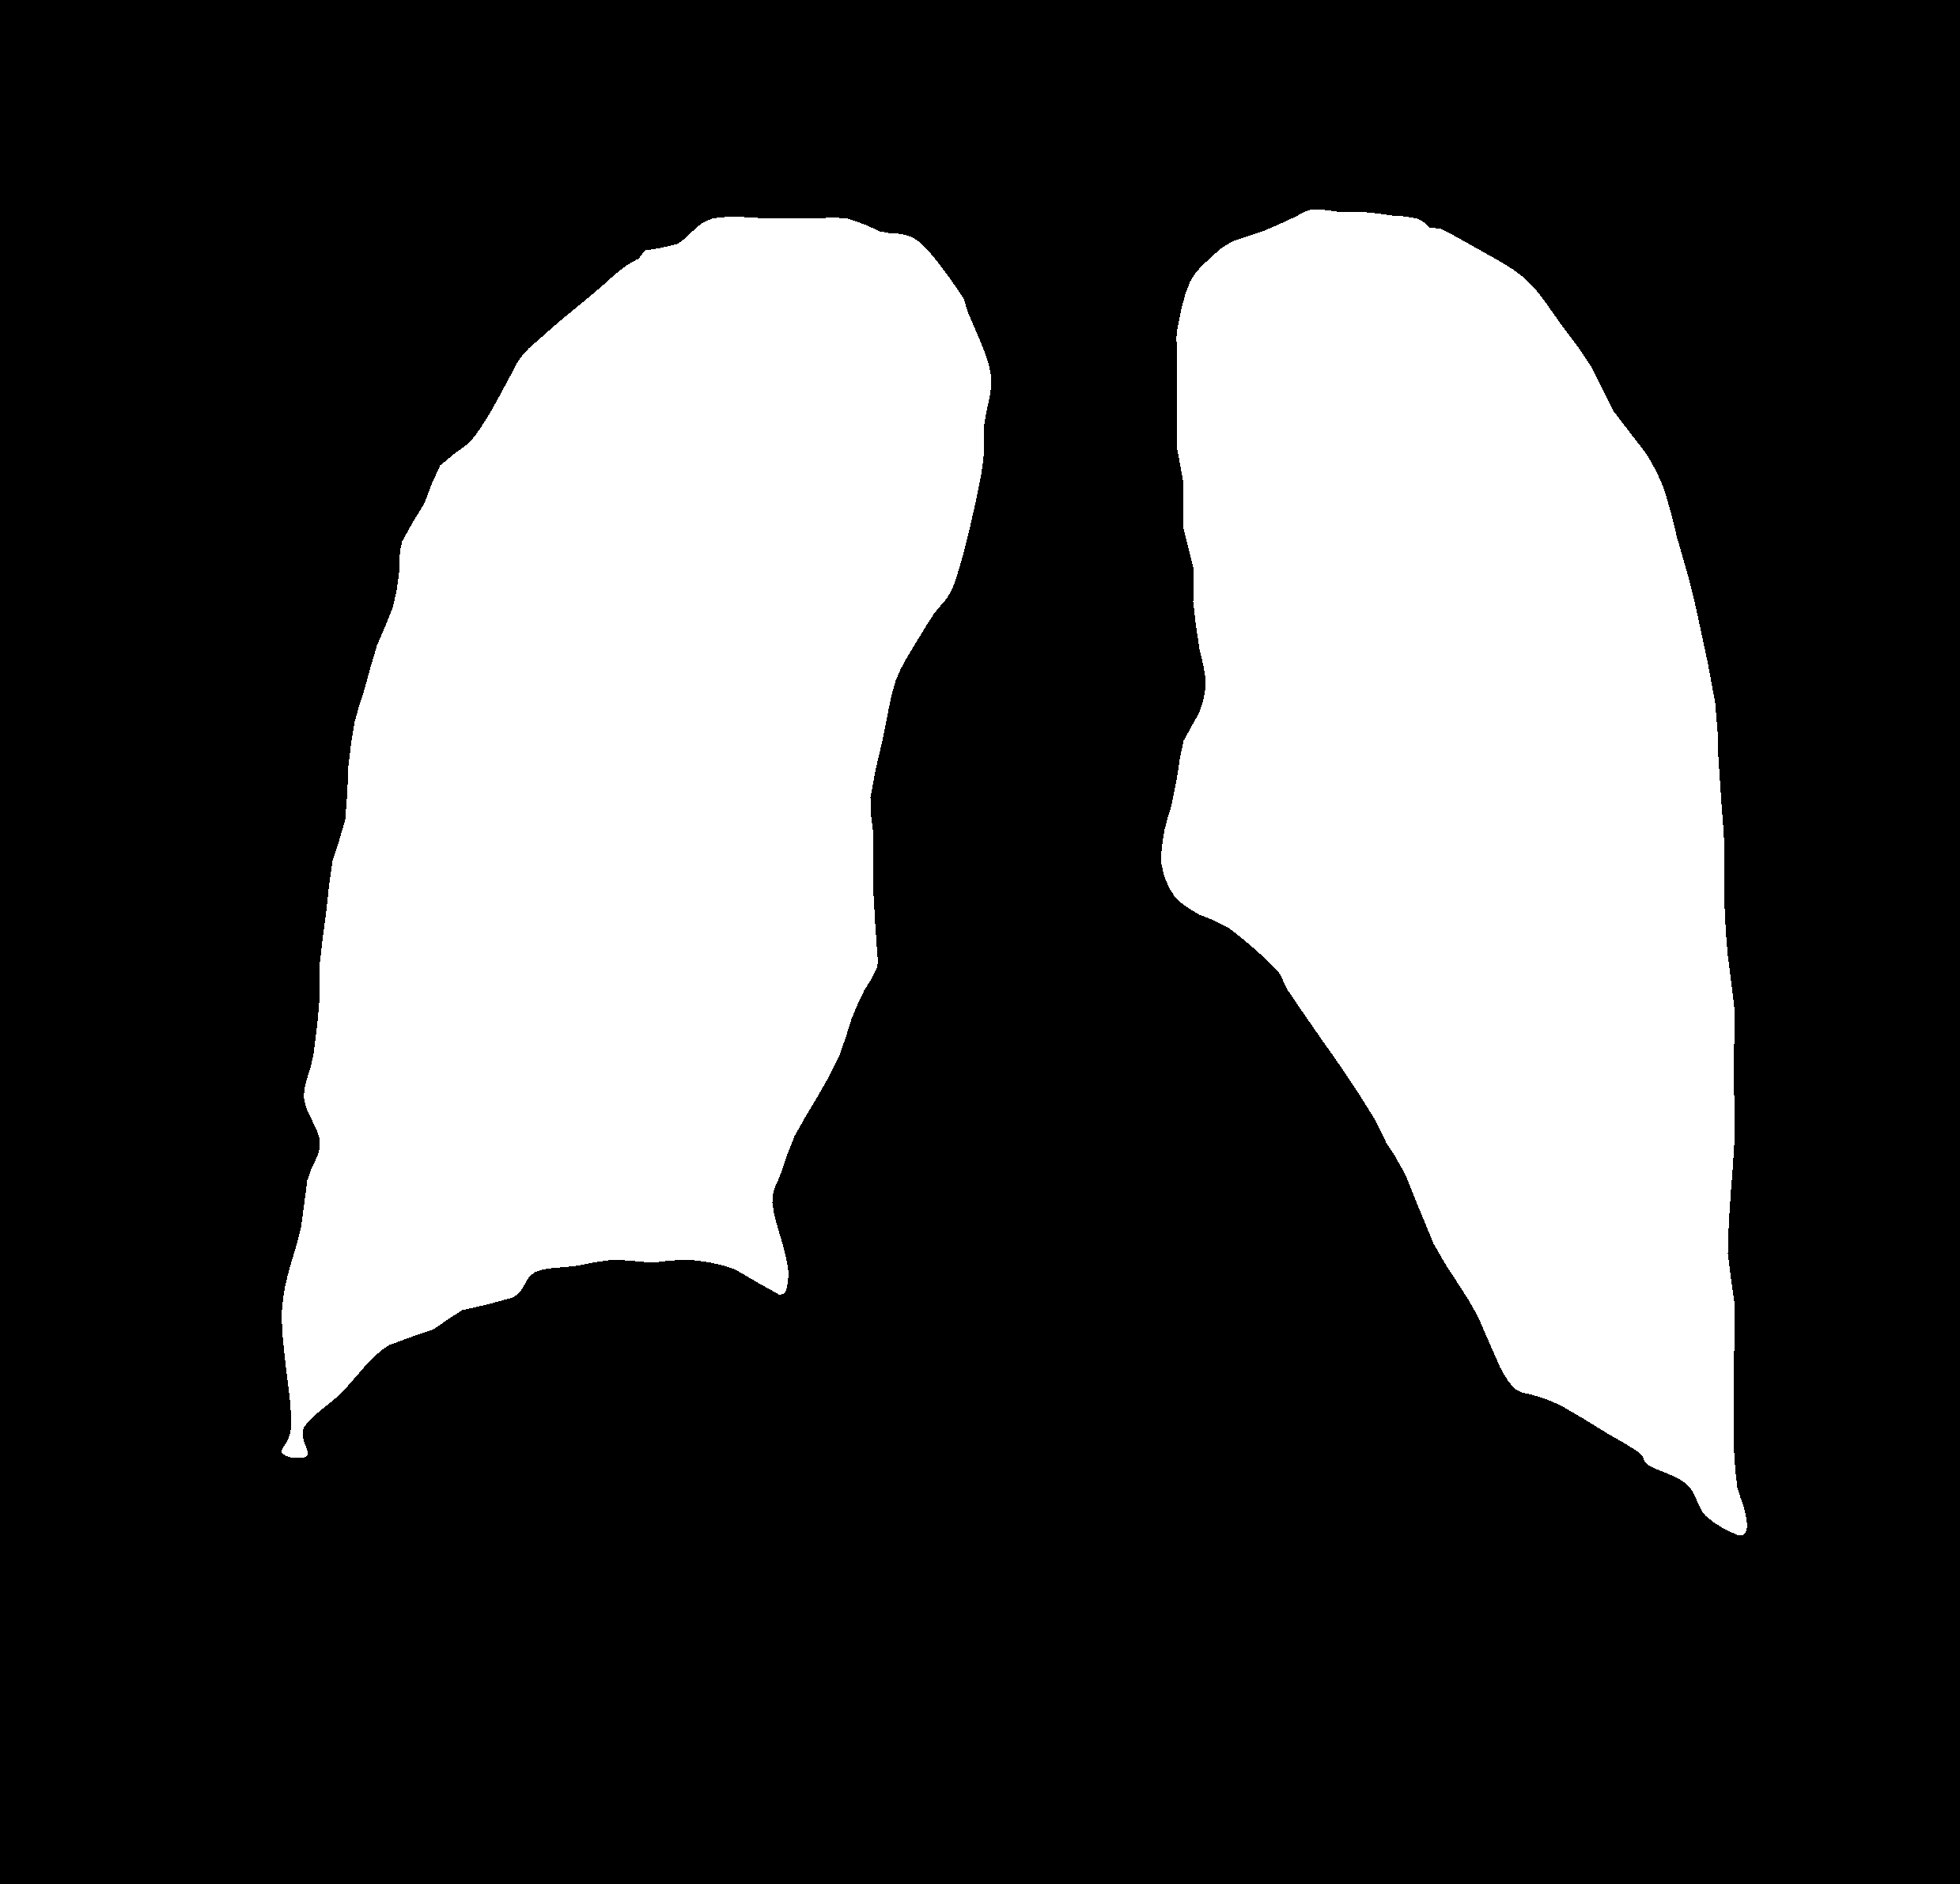heart: (789, 983, 1507, 1387)
left_lung: (282, 217, 990, 1457)
right_lung: (1162, 210, 1746, 1536)
